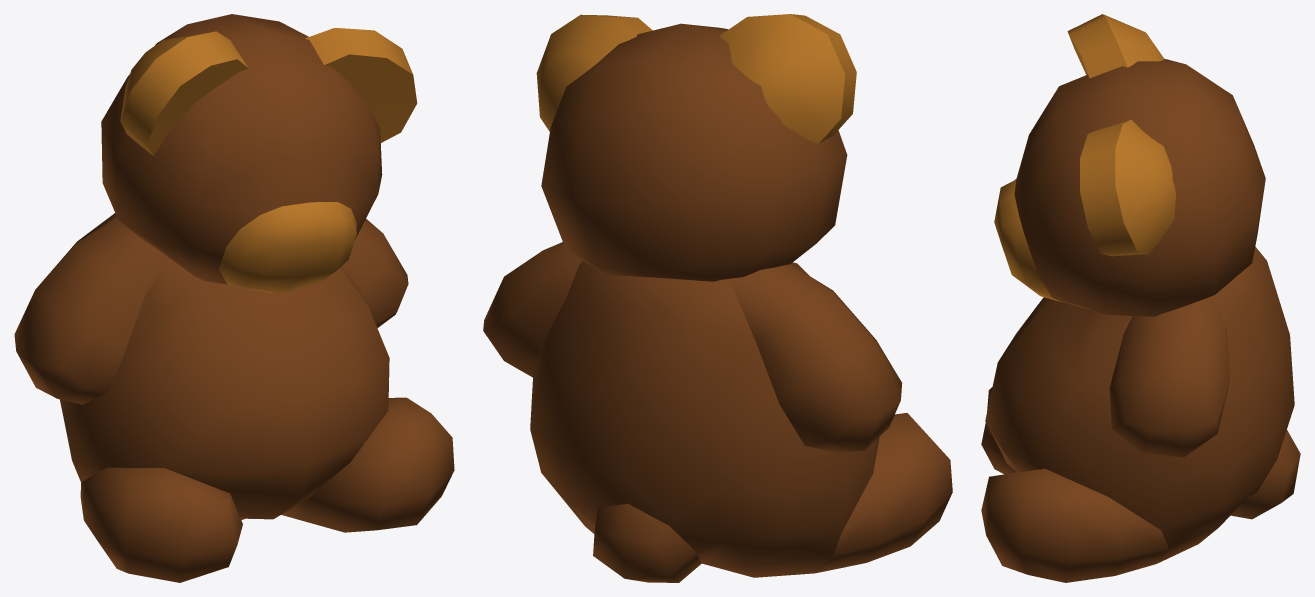
Rendered from toy_bear_01.fbx.
3 views of the same model, side by side, from view 1: azimuth 30°, elevation 25°; view 2: azimuth 150°, elevation 25°; view 3: azimuth 270°, elevation 25° (orthographic). The views are drawn at different scales.
Parts seen in each view (by area): view 1: toy_bear_01; view 2: toy_bear_01; view 3: toy_bear_01.
Boxes of the visible parts, x1=… form: toy_bear_01: x1=14, y1=14, x2=454, y2=582; toy_bear_01: x1=483, y1=14, x2=952, y2=582; toy_bear_01: x1=981, y1=14, x2=1300, y2=582.
Size of the model in its own units: 49.06 by 62.31 by 38.32.
